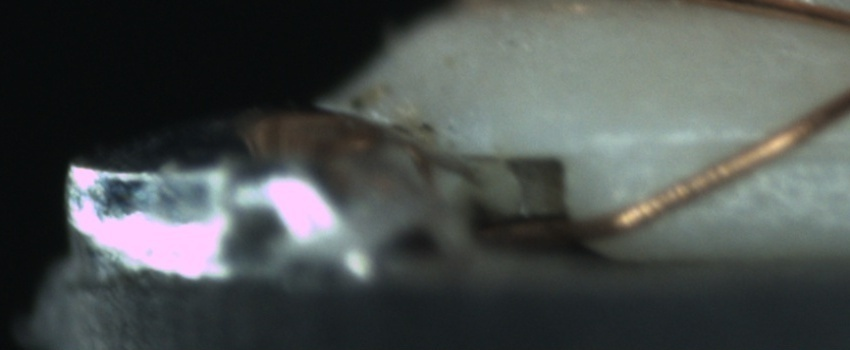DL: (615, 113, 850, 181)
